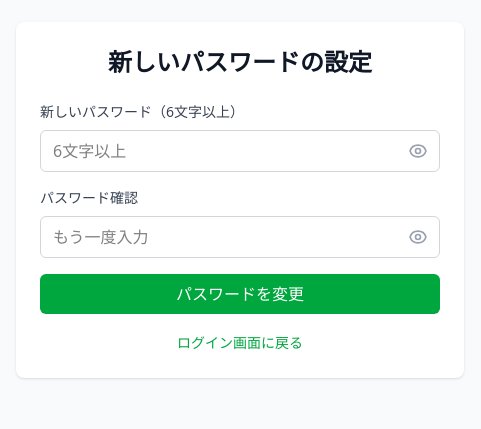
Test: ResetPassword › APIエラー時にエラーメッセージが表示されること
Type "newPassword123" into the password field labelled "新しいパスワード（6文字以上）".
click(240, 151); type("newPassword123")  # box [40,130,440,172]
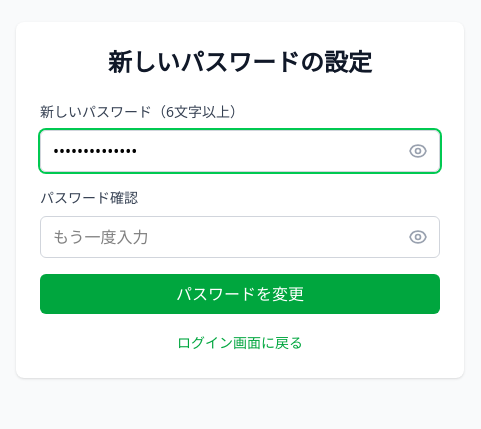
Type "newPassword123" into the password field labelled "パスワード確認".
click(240, 237); type("newPassword123")  # box [40,216,440,258]
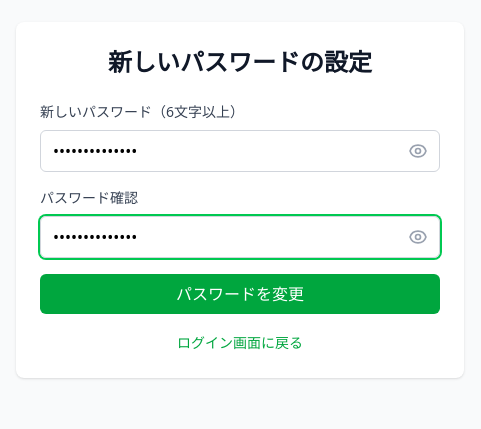
Click the button "パスワードを変更".
click(240, 294)  # box [40,274,440,314]
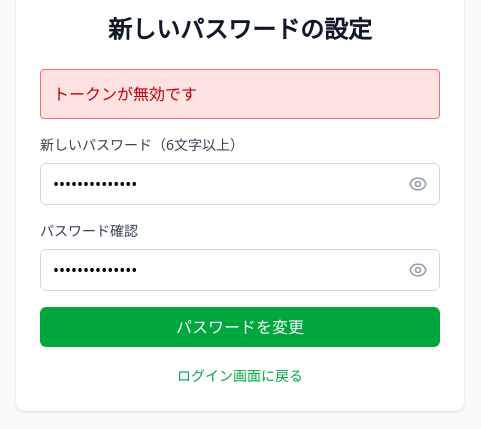
Check: the text "トークンが無効です" is shown, box [40,69,440,119]
